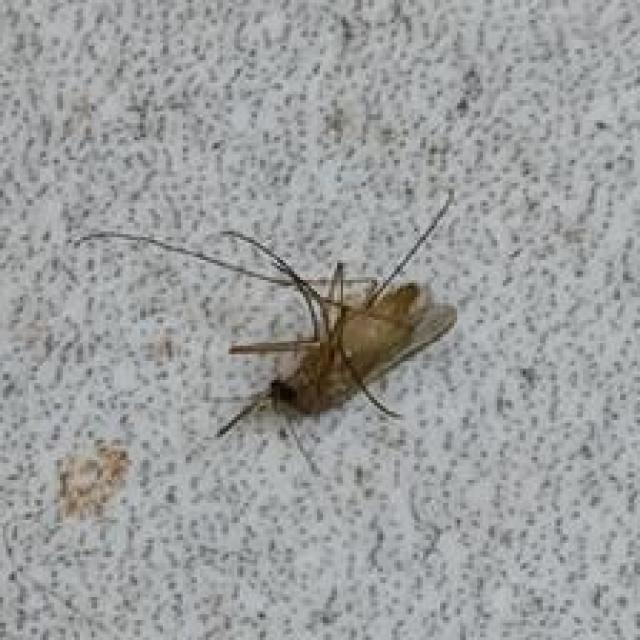Culex: (71, 187, 460, 476)
